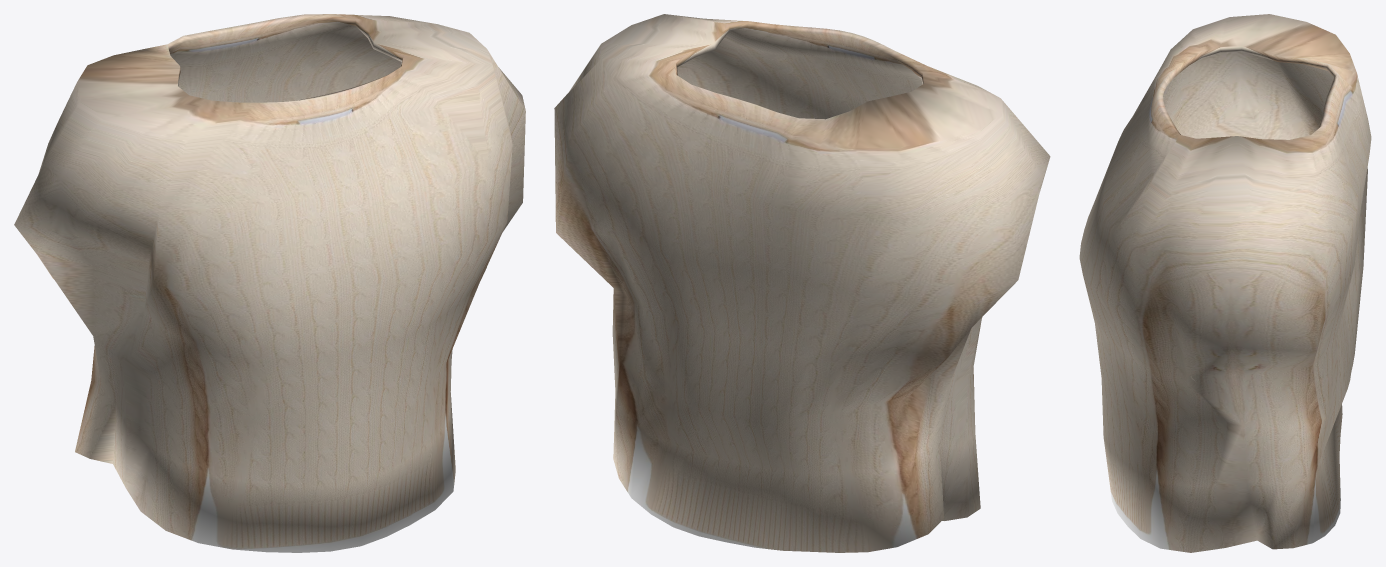
The model's file is 07fddbdb-3c24-4e46-98b2-ea4f3af11018.glb.
The picture shows the model from 3 angles, left to right: view 1: azimuth 30°, elevation 25°; view 2: azimuth 150°, elevation 25°; view 3: azimuth 270°, elevation 25°; orthographic projection. The views are drawn at different scales.
Visible parts, largest first — view 1: garment; view 2: garment; view 3: garment.
Part boxes in pixels (<box>): garment: <box>14,14,525,552</box>; garment: <box>554,14,1050,552</box>; garment: <box>1079,14,1371,552</box>.
Bounding box in the file's own units: 0.5547 × 0.4902 × 0.3212.
Materials: 1 (1 with a texture image).
